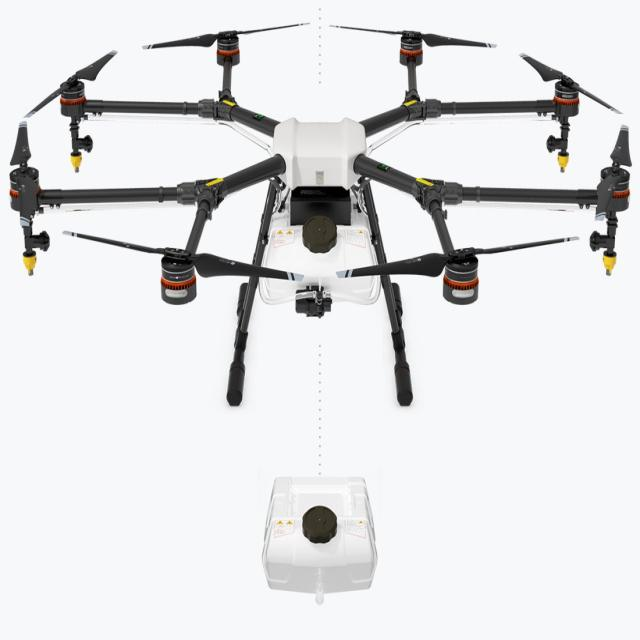drone: (2, 6, 640, 343)
